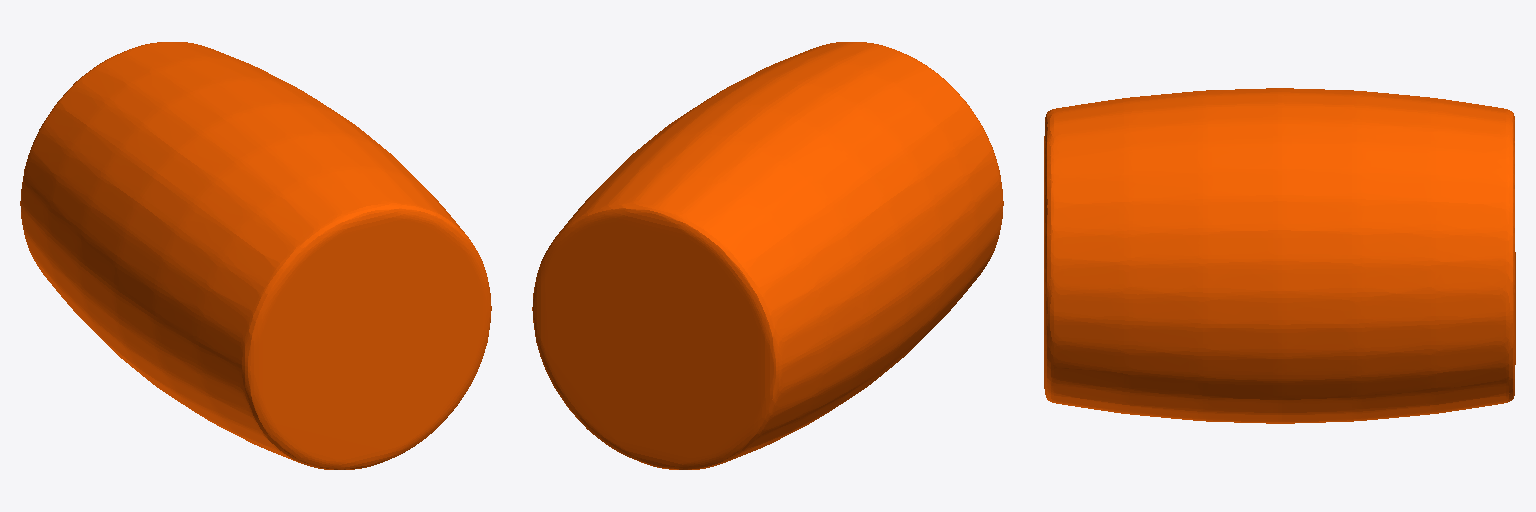
The robot description file, URDF, robot "Oiltank":
<?xml version="1.0" ?>
<robot name="Oiltank">
   <material name="obj_color">
      <color rgba="1.0 0.423529411765 0.0392156862745 1.0"/>
   </material>
   <link name="top">
      <inertial>
         <origin rpy="0.001826683318713648 0.003339481752865935 0.003339548316308754" xyz="7.198607953942688e-07 2.633445166172736e-06 -1.201144209487827e-06"/>
         <mass value="1.734595889673525"/>
         <inertia ixx="0.003339482075785173" ixy="1.869304728951106e-08" ixz="4.626537332249002e-09" iyy="0.001826683318970659" iyz="6.275219685784945e-09" izz="0.003339547993132505"/>
      </inertial>
      <visual>
         <origin rpy="0 0 0" xyz="0 0 0"/>
         <geometry>
            <mesh filename="top_watertight_tiny.obj" scale="1 1 1"/>
         </geometry>
         <material name="obj_color"/>
      </visual>
      <collision>
         <origin rpy="0 0 0" xyz="0 0 0"/>
         <geometry>
            <mesh filename="top_watertight_tiny.obj" scale="1 1 1"/>
         </geometry>
      </collision>
   </link>
</robot>

--- What the picture shows (computed from the rendered views, not written in the file) ---
The picture shows the robot from 3 angles, left to right: view 1: azimuth 30°, elevation 25°; view 2: azimuth 150°, elevation 25°; view 3: azimuth 270°, elevation 25°; orthographic projection.
Robot: Oiltank — 1 links, 0 joints (none); root link top; default pose: all joints at 0.
Links seen in each view (by area): view 1: top; view 2: top; view 3: top.
Boxes of the visible links, bbox=[...] form: top: bbox=[20, 42, 491, 469]; top: bbox=[532, 42, 1003, 469]; top: bbox=[1044, 88, 1515, 423].
Bounding box of the posed robot: 0.0957 × 0.1347 × 0.0957 m (x, y, z).
1 mesh visuals loaded from 1 distinct referenced files (1 OBJ).